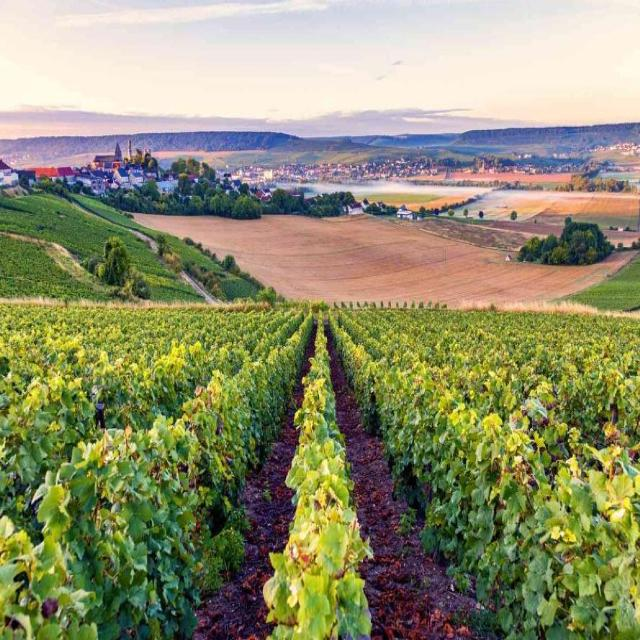row: (329, 324, 513, 640), (174, 322, 318, 640)
